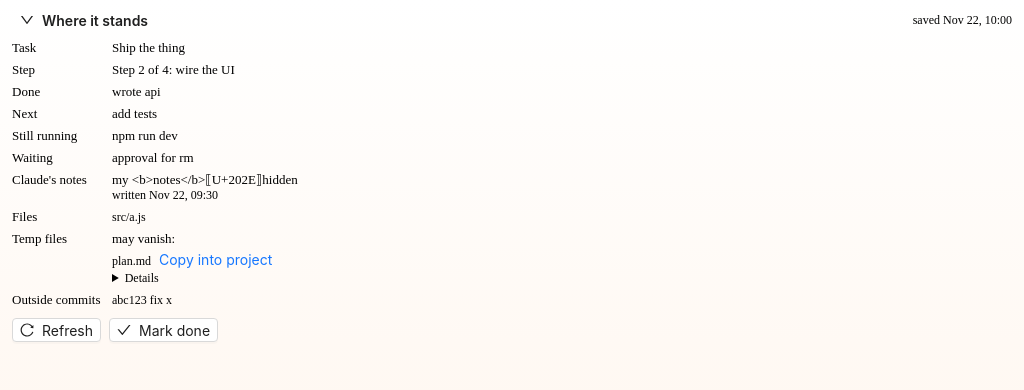
Test: HandoffCard › copies a temp file into the project, with plain errors and a success line
Click the button "Copy into project": (216, 259) [151, 247, 280, 271]
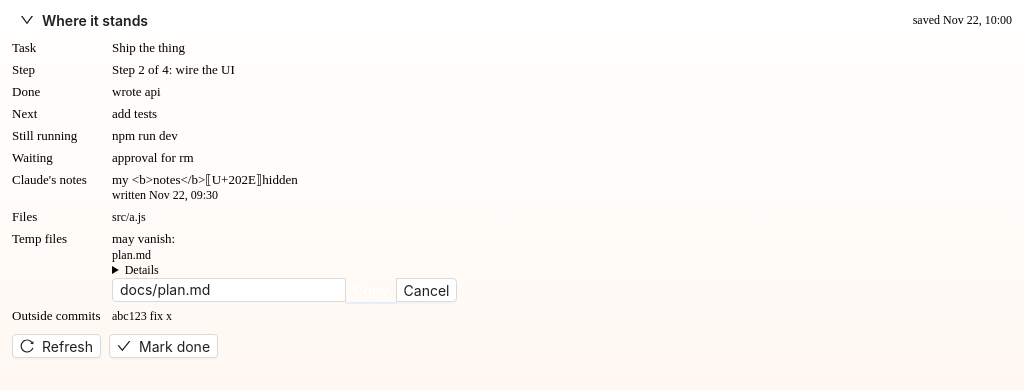
Click the button "Copy": (371, 290) [345, 278, 397, 302]
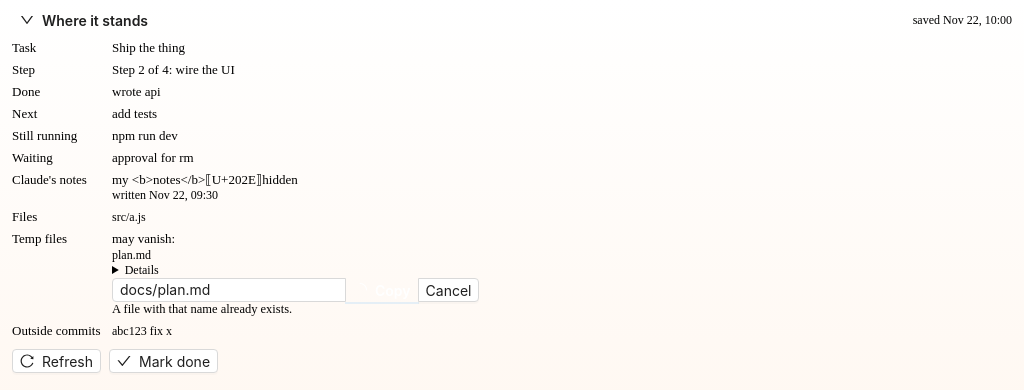
Now the text "A file with that name already exists." is shown, box [112, 302, 292, 316]
Click the button "Copy": (382, 290) [345, 278, 419, 302]
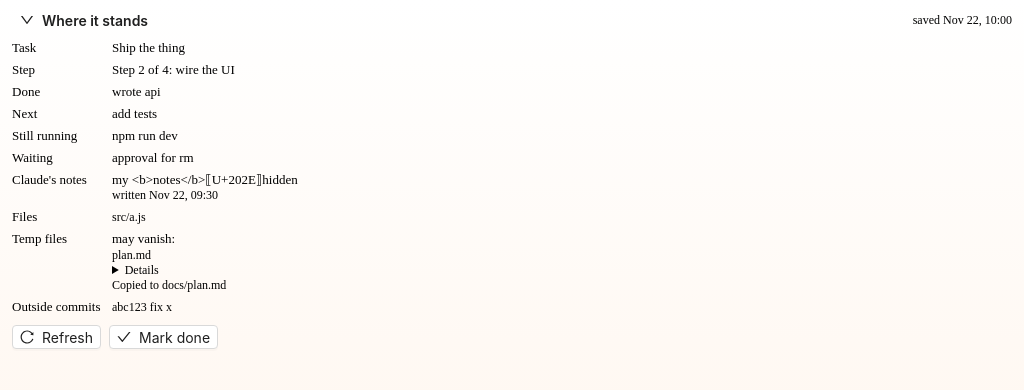
Now the text "Copied to docs/plan.md" is shown, box [112, 278, 226, 293]
